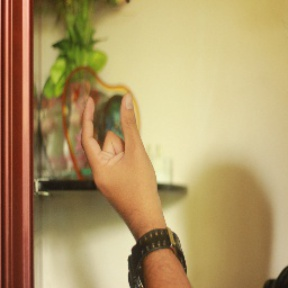U: (73, 83, 162, 209)
